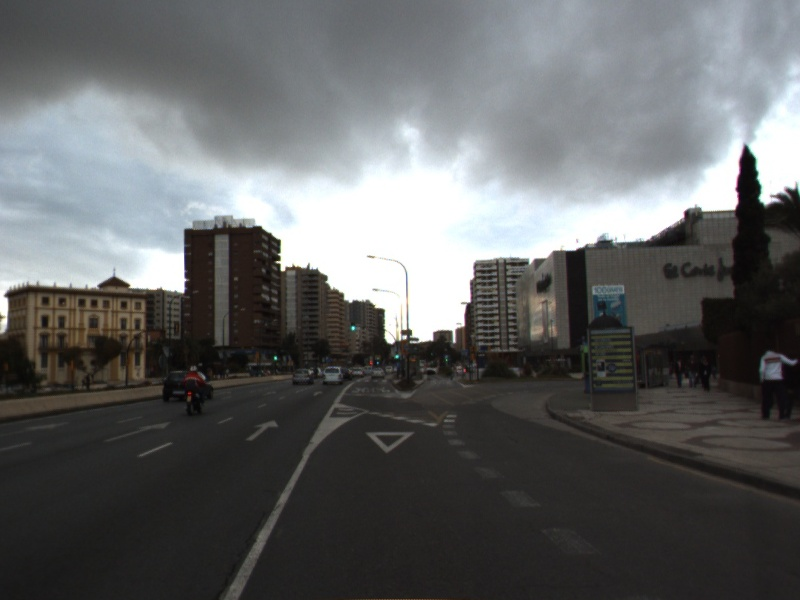STRAIGHT: (101, 419, 174, 444), (243, 417, 282, 443)
